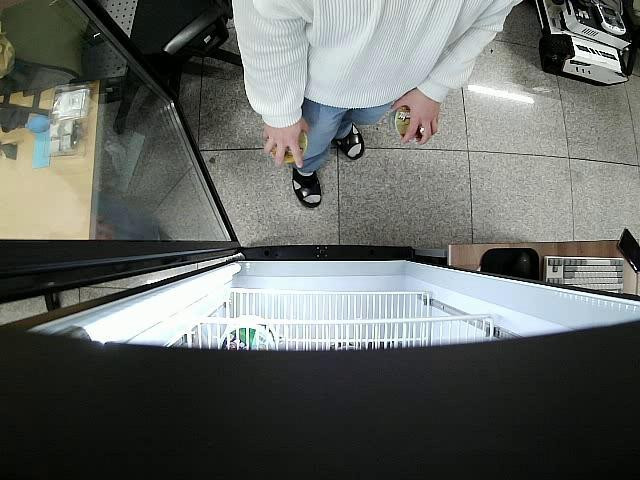04_chapagetti_S: (264, 128, 308, 167), (394, 106, 436, 143)
